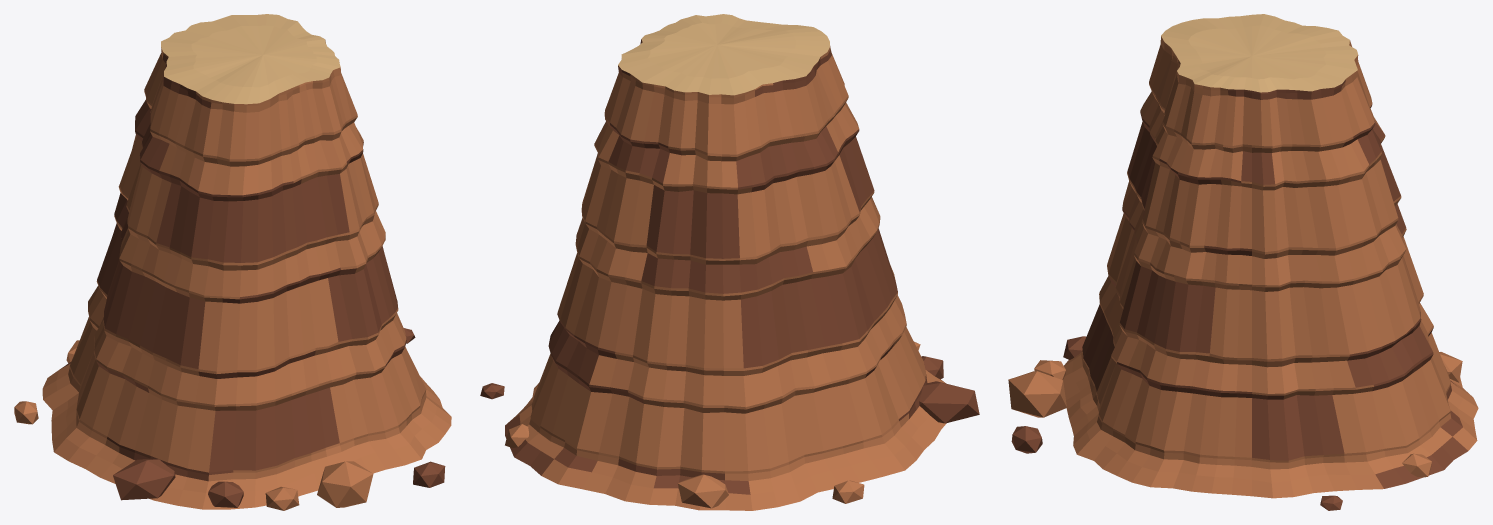
Rendered from mesa_rock.fbx.
The picture shows the model from 3 angles, left to right: view 1: azimuth 30°, elevation 25°; view 2: azimuth 150°, elevation 25°; view 3: azimuth 270°, elevation 25°; orthographic projection. The views are drawn at different scales.
Parts seen in each view (by area): view 1: Mesa, Boulders; view 2: Mesa, Boulders; view 3: Mesa, Boulders.
Part boxes in pixels (<box>): Mesa: <box>42,14,451,509</box>; Boulders: <box>14,328,445,510</box>; Mesa: <box>505,14,946,510</box>; Boulders: <box>480,341,979,508</box>; Mesa: <box>1063,14,1478,498</box>; Boulders: <box>1008,336,1462,510</box>.
Bounding box in the file's own units: 4591 × 4159 × 4745.
